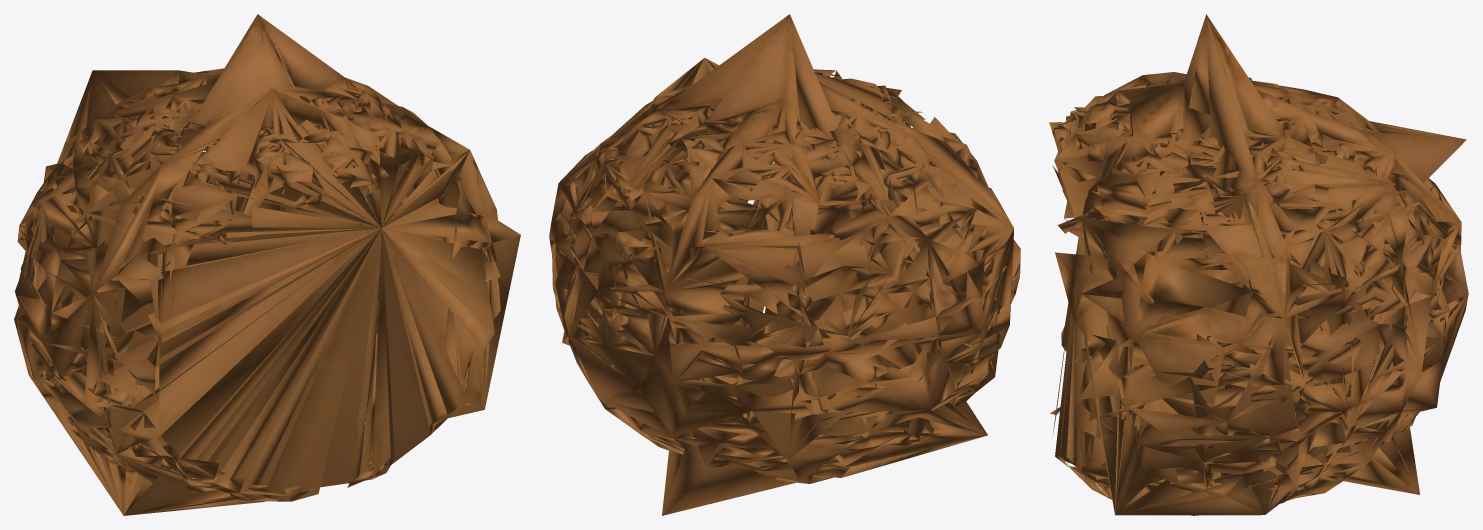
File: SM_House_PendantLamp.glb
3 views of the same model, side by side, from view 1: azimuth 30°, elevation 25°; view 2: azimuth 150°, elevation 25°; view 3: azimuth 270°, elevation 25° (orthographic). The views are drawn at different scales.
Visible parts, largest first — view 1: tripo_node_59ec184b-0305-4d8d-b86d-097c10d5cfb6; view 2: tripo_node_59ec184b-0305-4d8d-b86d-097c10d5cfb6; view 3: tripo_node_59ec184b-0305-4d8d-b86d-097c10d5cfb6.
Boxes of the visible parts, x1,y1,x2,y2 form: tripo_node_59ec184b-0305-4d8d-b86d-097c10d5cfb6: (14, 14, 520, 515); tripo_node_59ec184b-0305-4d8d-b86d-097c10d5cfb6: (549, 14, 1020, 515); tripo_node_59ec184b-0305-4d8d-b86d-097c10d5cfb6: (1049, 14, 1468, 515).
Bounding box in the file's own units: 0.9642 × 1 × 0.8149.
Materials: 1 (1 with a texture image).
